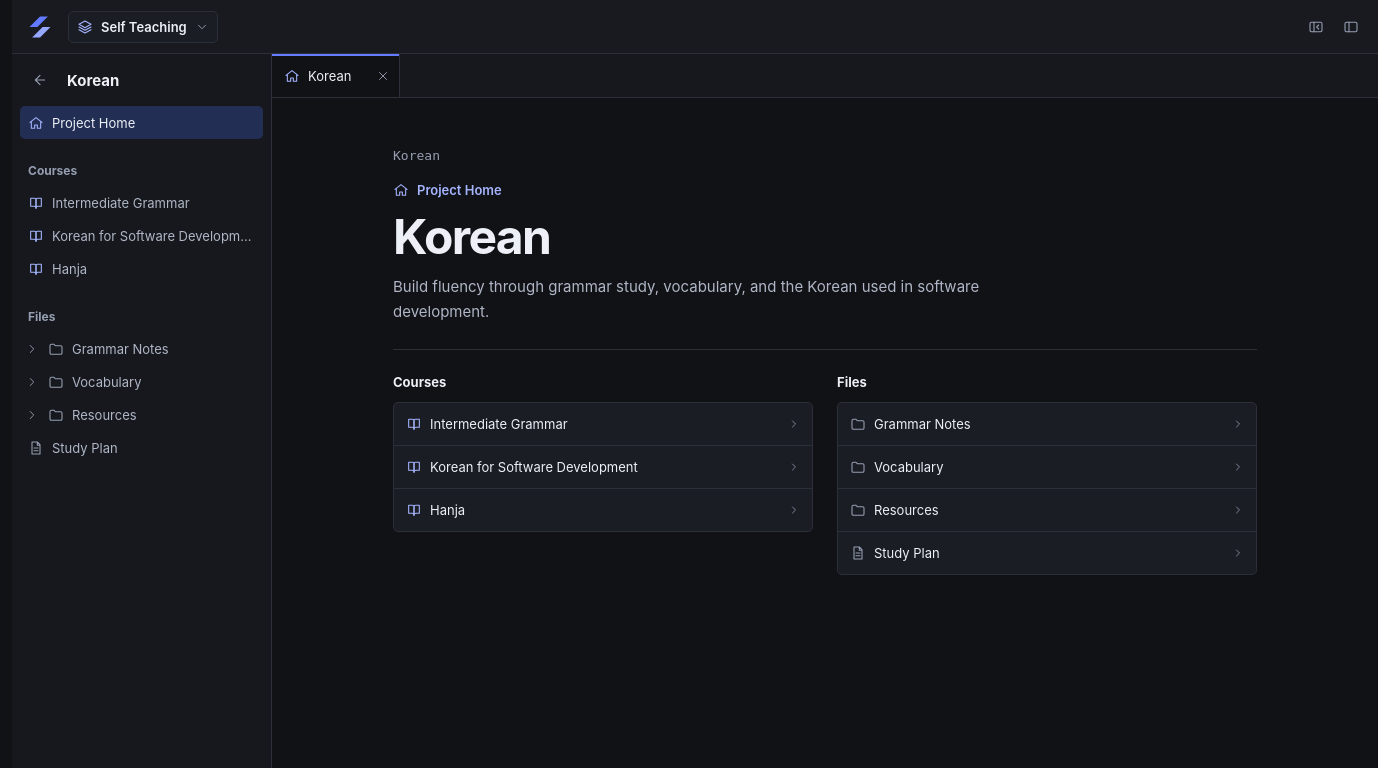
collapsing and hiding the sidebar preserve the selected project and active tab
Click the 1st button "Study Plan".
click(142, 448)  # box x1=20 y1=431 x2=263 y2=464
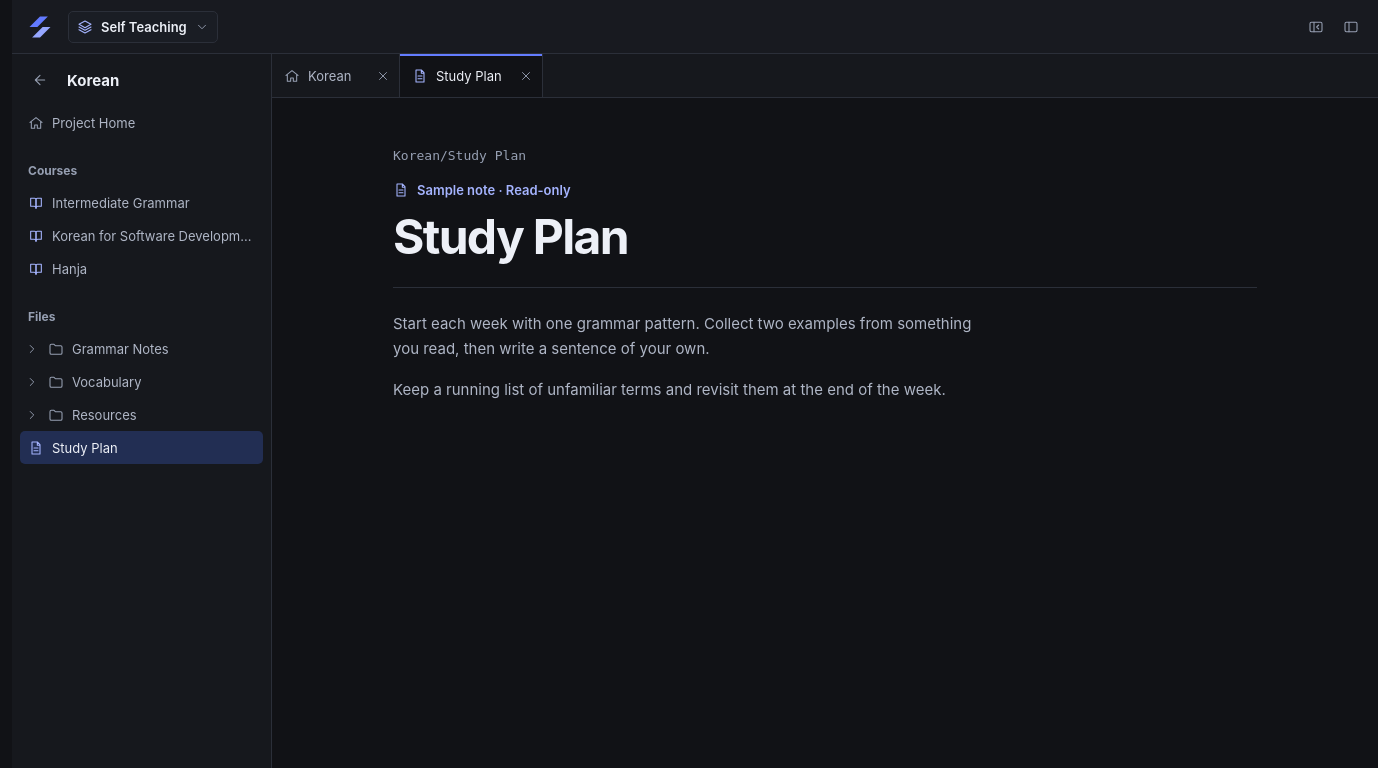
Click the button named "Collapse sidebar".
click(1316, 26)  # box x1=1300 y1=11 x2=1331 y2=42
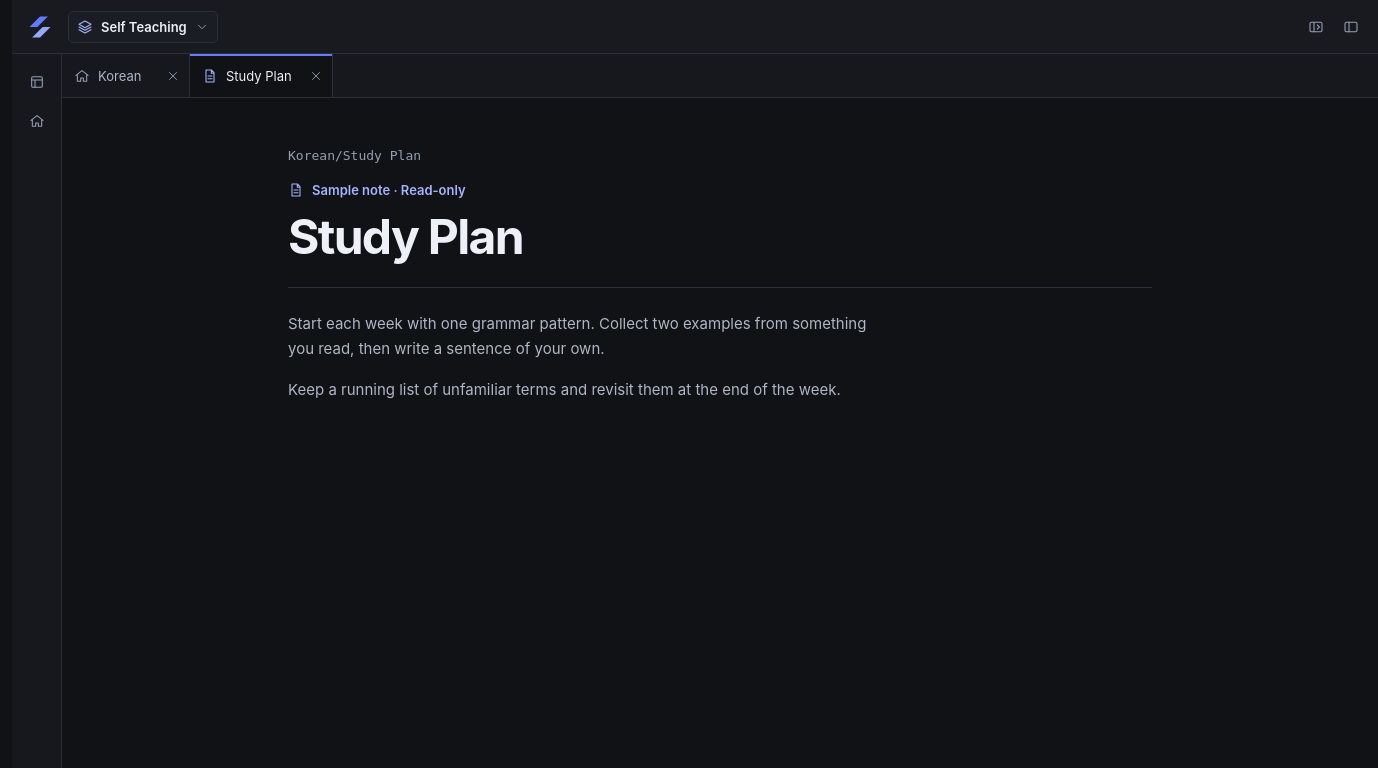
Expected: the heading "Study Plan" is shown, x1=288 y1=206 x2=523 y2=266
Expected: the heading "Files" is gone
Expected: the button named "Open Korean Project Home" is shown, x1=21 y1=105 x2=52 y2=136
Click the button named "Hide sidebar".
click(1350, 26)  # box x1=1335 y1=11 x2=1366 y2=42
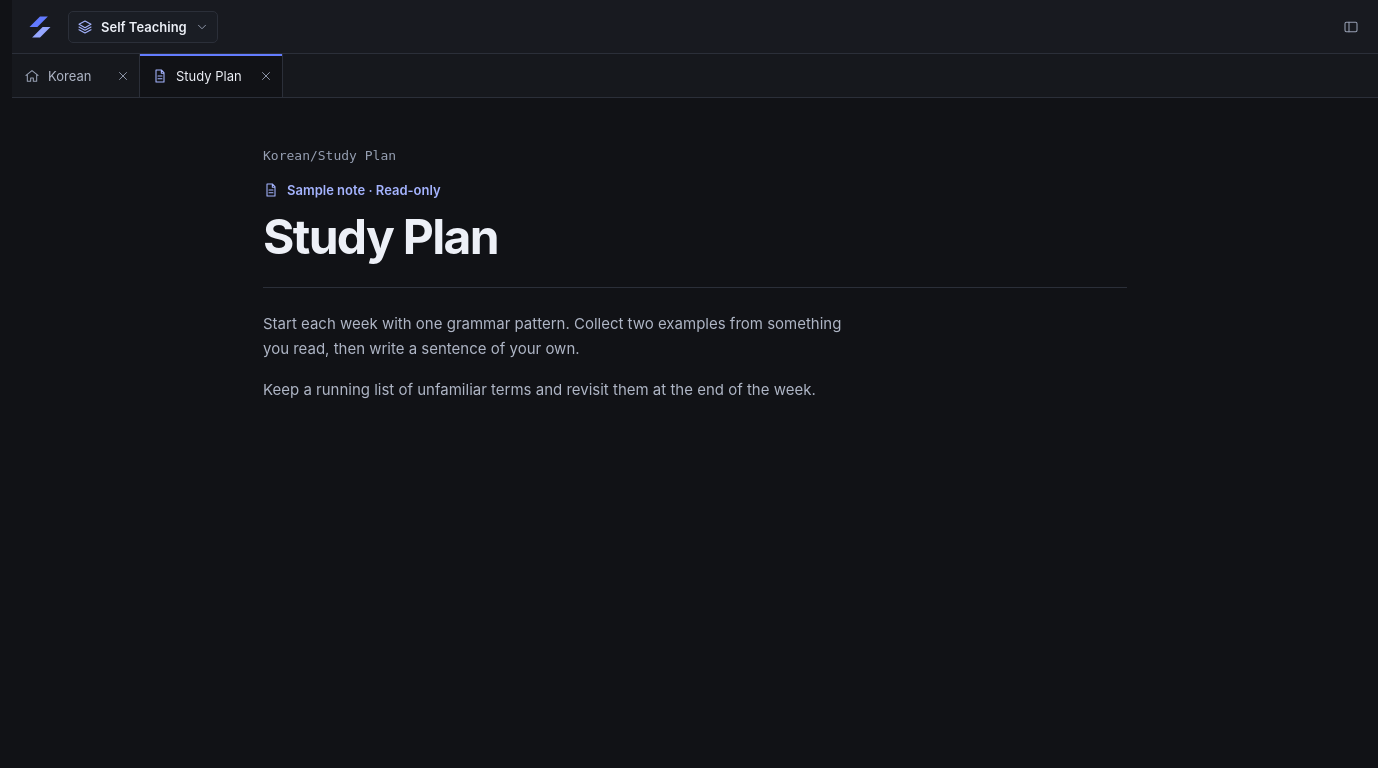
Expected: the heading "Study Plan" is shown, x1=263 y1=206 x2=498 y2=266
Click the button named "Show sidebar".
click(1350, 26)  # box x1=1335 y1=11 x2=1366 y2=42
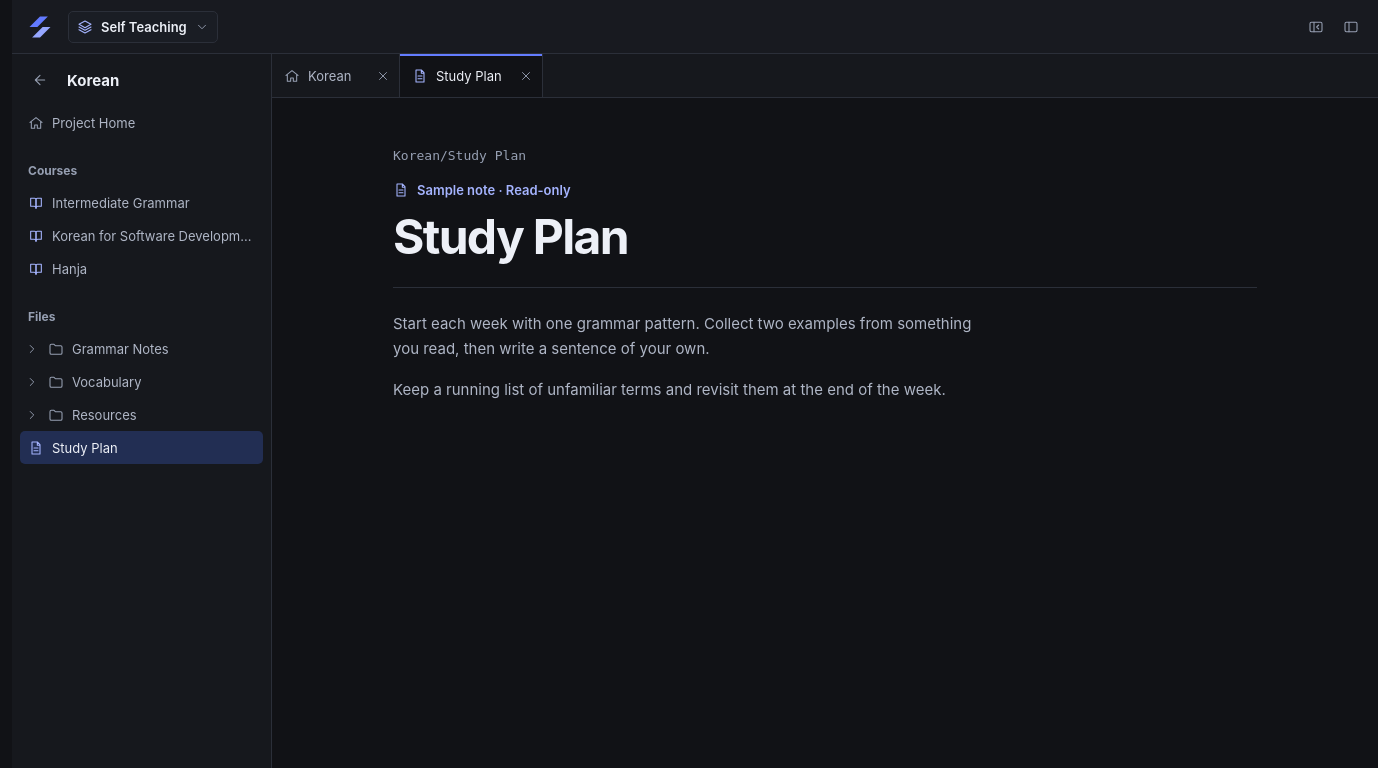
Expected: the heading "Study Plan" is shown, x1=393 y1=206 x2=628 y2=266
Expected: the heading "Korean" is shown, x1=63 y1=66 x2=123 y2=94
